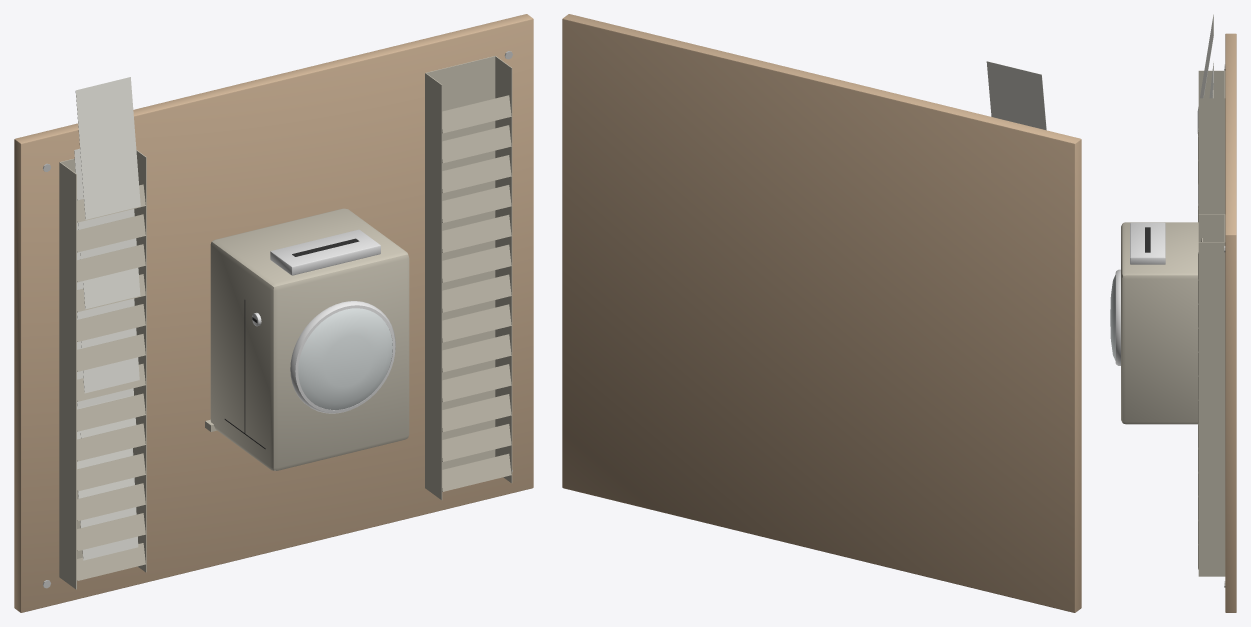
File: Kit_TimeClockStation.fbx
3 views of the same model, side by side, from view 1: azimuth 30°, elevation 25°; view 2: azimuth 150°, elevation 25°; view 3: azimuth 270°, elevation 25° (orthographic). The views are drawn at different scales.
Visible parts, largest first — view 1: Kit_TimeClockStation_LOD0; view 2: Kit_TimeClockStation_LOD0; view 3: Kit_TimeClockStation_LOD0.
Boxes of the visible parts, x1,y1,x2,y2 form: Kit_TimeClockStation_LOD0: [14, 14, 533, 612]; Kit_TimeClockStation_LOD0: [562, 14, 1081, 612]; Kit_TimeClockStation_LOD0: [1110, 14, 1236, 612].
Size of what is drawn, in the model's own units: 0.8 by 0.77 by 0.212.
